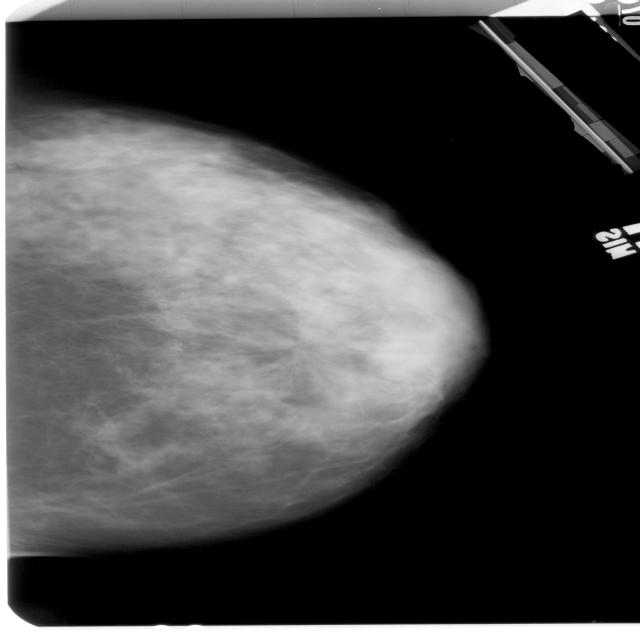cancer: (33, 119, 491, 449)
